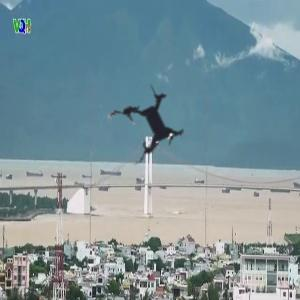drone: (85, 60, 218, 193)
